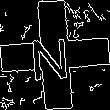N_N: (33, 28, 77, 82)
